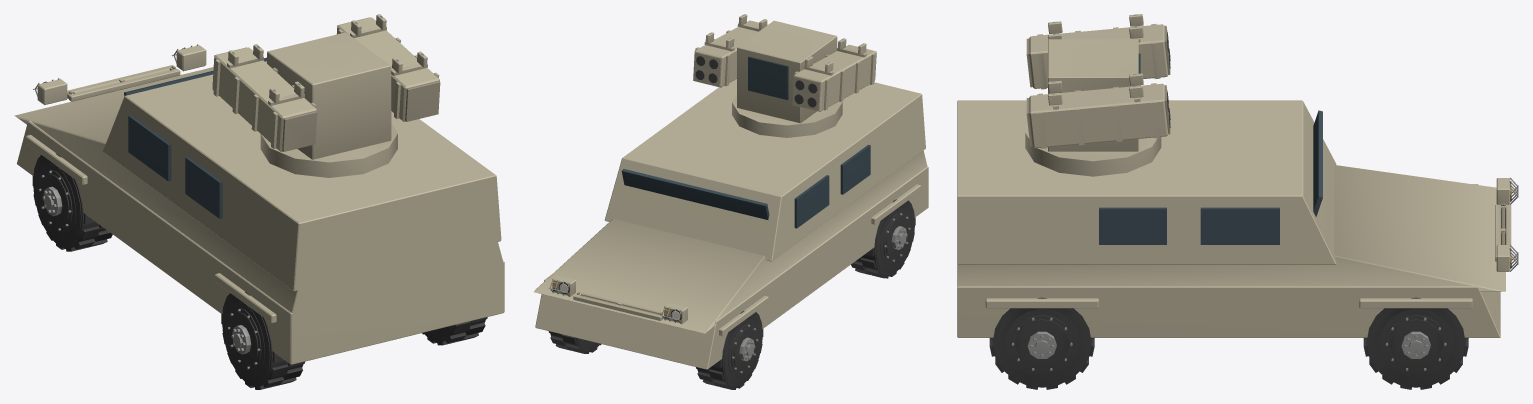
File: usa_aa_avenger.glb
3 views of the same model, side by side, from view 1: azimuth 30°, elevation 25°; view 2: azimuth 150°, elevation 25°; view 3: azimuth 270°, elevation 25° (orthographic). The views are drawn at different scales.
Visible parts, largest first — view 1: body, turret, barrel, wheel_2, wheel_0, wheel_3; view 2: body, turret, barrel, wheel_0, wheel_2, wheel_1; view 3: body, barrel, turret, wheel_1, wheel_3.
Boxes of the visible parts, x1=… form: body: x1=14, y1=44, x2=504, y2=364; turret: x1=260, y1=32, x2=397, y2=177; barrel: x1=212, y1=14, x2=440, y2=151; wheel_2: x1=221, y1=291, x2=304, y2=389; wheel_0: x1=32, y1=153, x2=112, y2=251; wheel_3: x1=422, y1=317, x2=487, y2=345; body: x1=534, y1=79, x2=928, y2=369; turret: x1=732, y1=20, x2=842, y2=137; barrel: x1=693, y1=14, x2=876, y2=111; wheel_0: x1=696, y1=311, x2=763, y2=389; wheel_2: x1=851, y1=199, x2=915, y2=278; wheel_1: x1=548, y1=331, x2=601, y2=353; body: x1=957, y1=100, x2=1518, y2=337; barrel: x1=1026, y1=14, x2=1170, y2=148; turret: x1=1025, y1=39, x2=1161, y2=176; wheel_1: x1=1363, y1=297, x2=1468, y2=389; wheel_3: x1=989, y1=297, x2=1094, y2=389.
Size of the model in its own units: 2.38 by 2.81 by 4.96.
